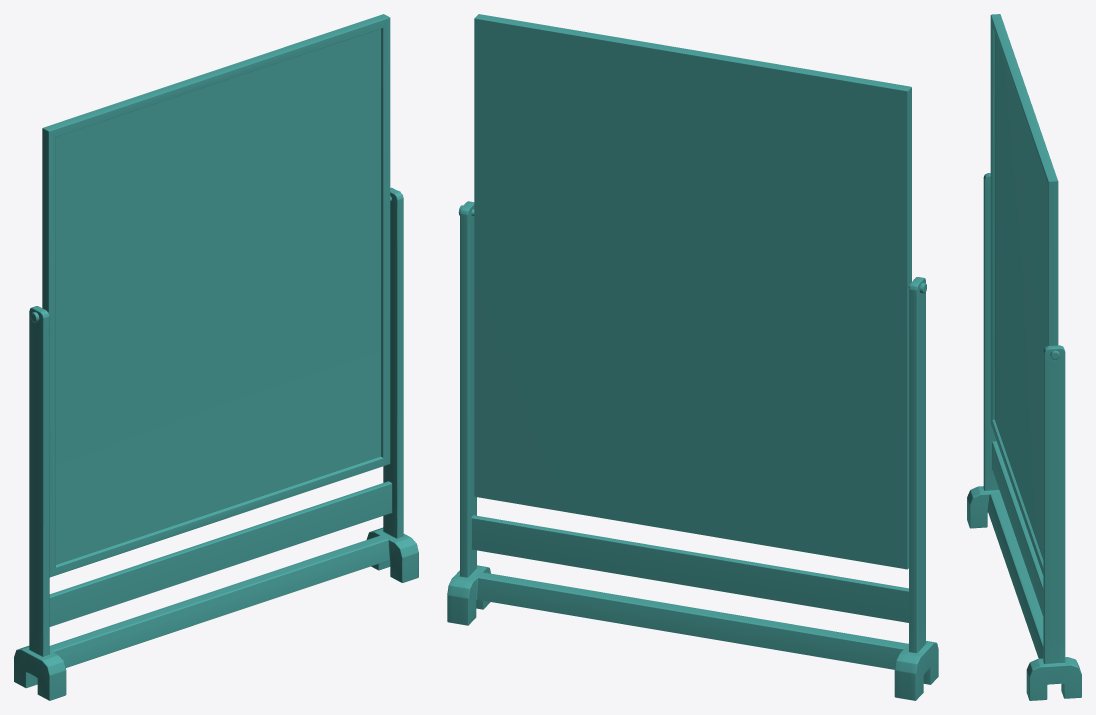
Rendered from SoftBoard Mod.fbx.
3 views of the same model, side by side, from view 1: azimuth 30°, elevation 25°; view 2: azimuth 150°, elevation 25°; view 3: azimuth 270°, elevation 25° (orthographic). The views are drawn at different scales.
Parts seen in each view (by area): view 1: Mirror_Mirror, Mirror_Stand; view 2: Mirror_Mirror, Mirror_Stand; view 3: Mirror_Mirror, Mirror_Stand.
Boxes of the visible parts, left/top/right/bottom form: Mirror_Mirror: left=42, top=14, right=390, bottom=577; Mirror_Stand: left=14, top=187, right=418, bottom=700; Mirror_Mirror: left=474, top=14, right=911, bottom=569; Mirror_Stand: left=447, top=201, right=938, bottom=700; Mirror_Mirror: left=990, top=14, right=1058, bottom=575; Mirror_Stand: left=967, top=173, right=1081, bottom=700.
Size of the model in its own units: 164 by 212 by 43.21.
